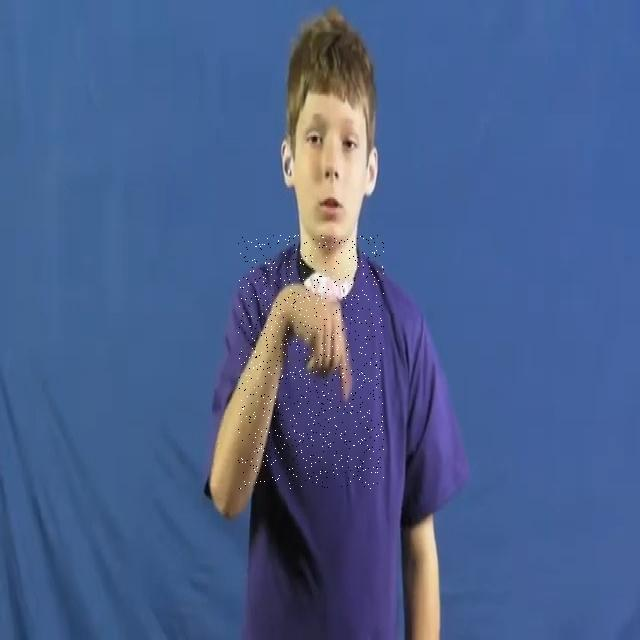barbecue: (238, 236, 384, 490)
